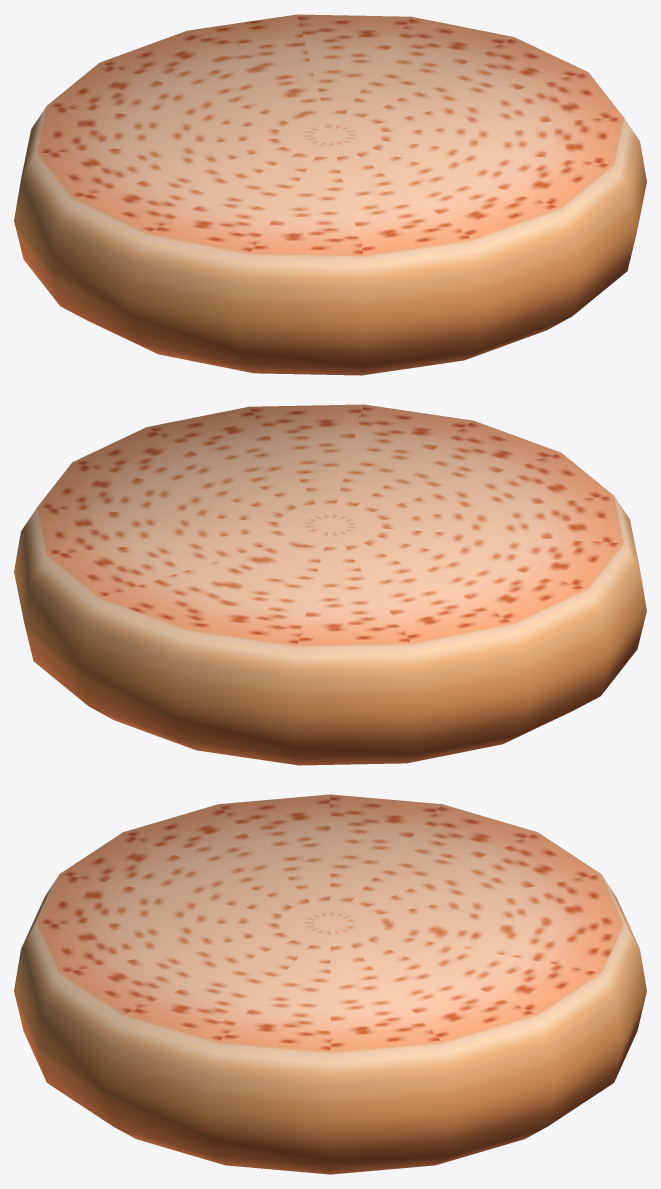
The model's file is bottomBun.obj.
The picture shows the model from 3 angles, top to bottom: view 1: azimuth 30°, elevation 25°; view 2: azimuth 150°, elevation 25°; view 3: azimuth 270°, elevation 25°; orthographic projection. The views are drawn at different scales.
Visible parts, largest first — view 1: hamburger:mesh0028; view 2: hamburger:mesh0028; view 3: hamburger:mesh0028.
Boxes of the visible parts, x1,y1,x2,y2 form: hamburger:mesh0028: (14,14,646,375); hamburger:mesh0028: (14,404,646,765); hamburger:mesh0028: (14,794,646,1174).
Bounding box in the file's own units: 5.42 × 1.18 × 5.21.
Materials: 1 (1 with a texture image).
